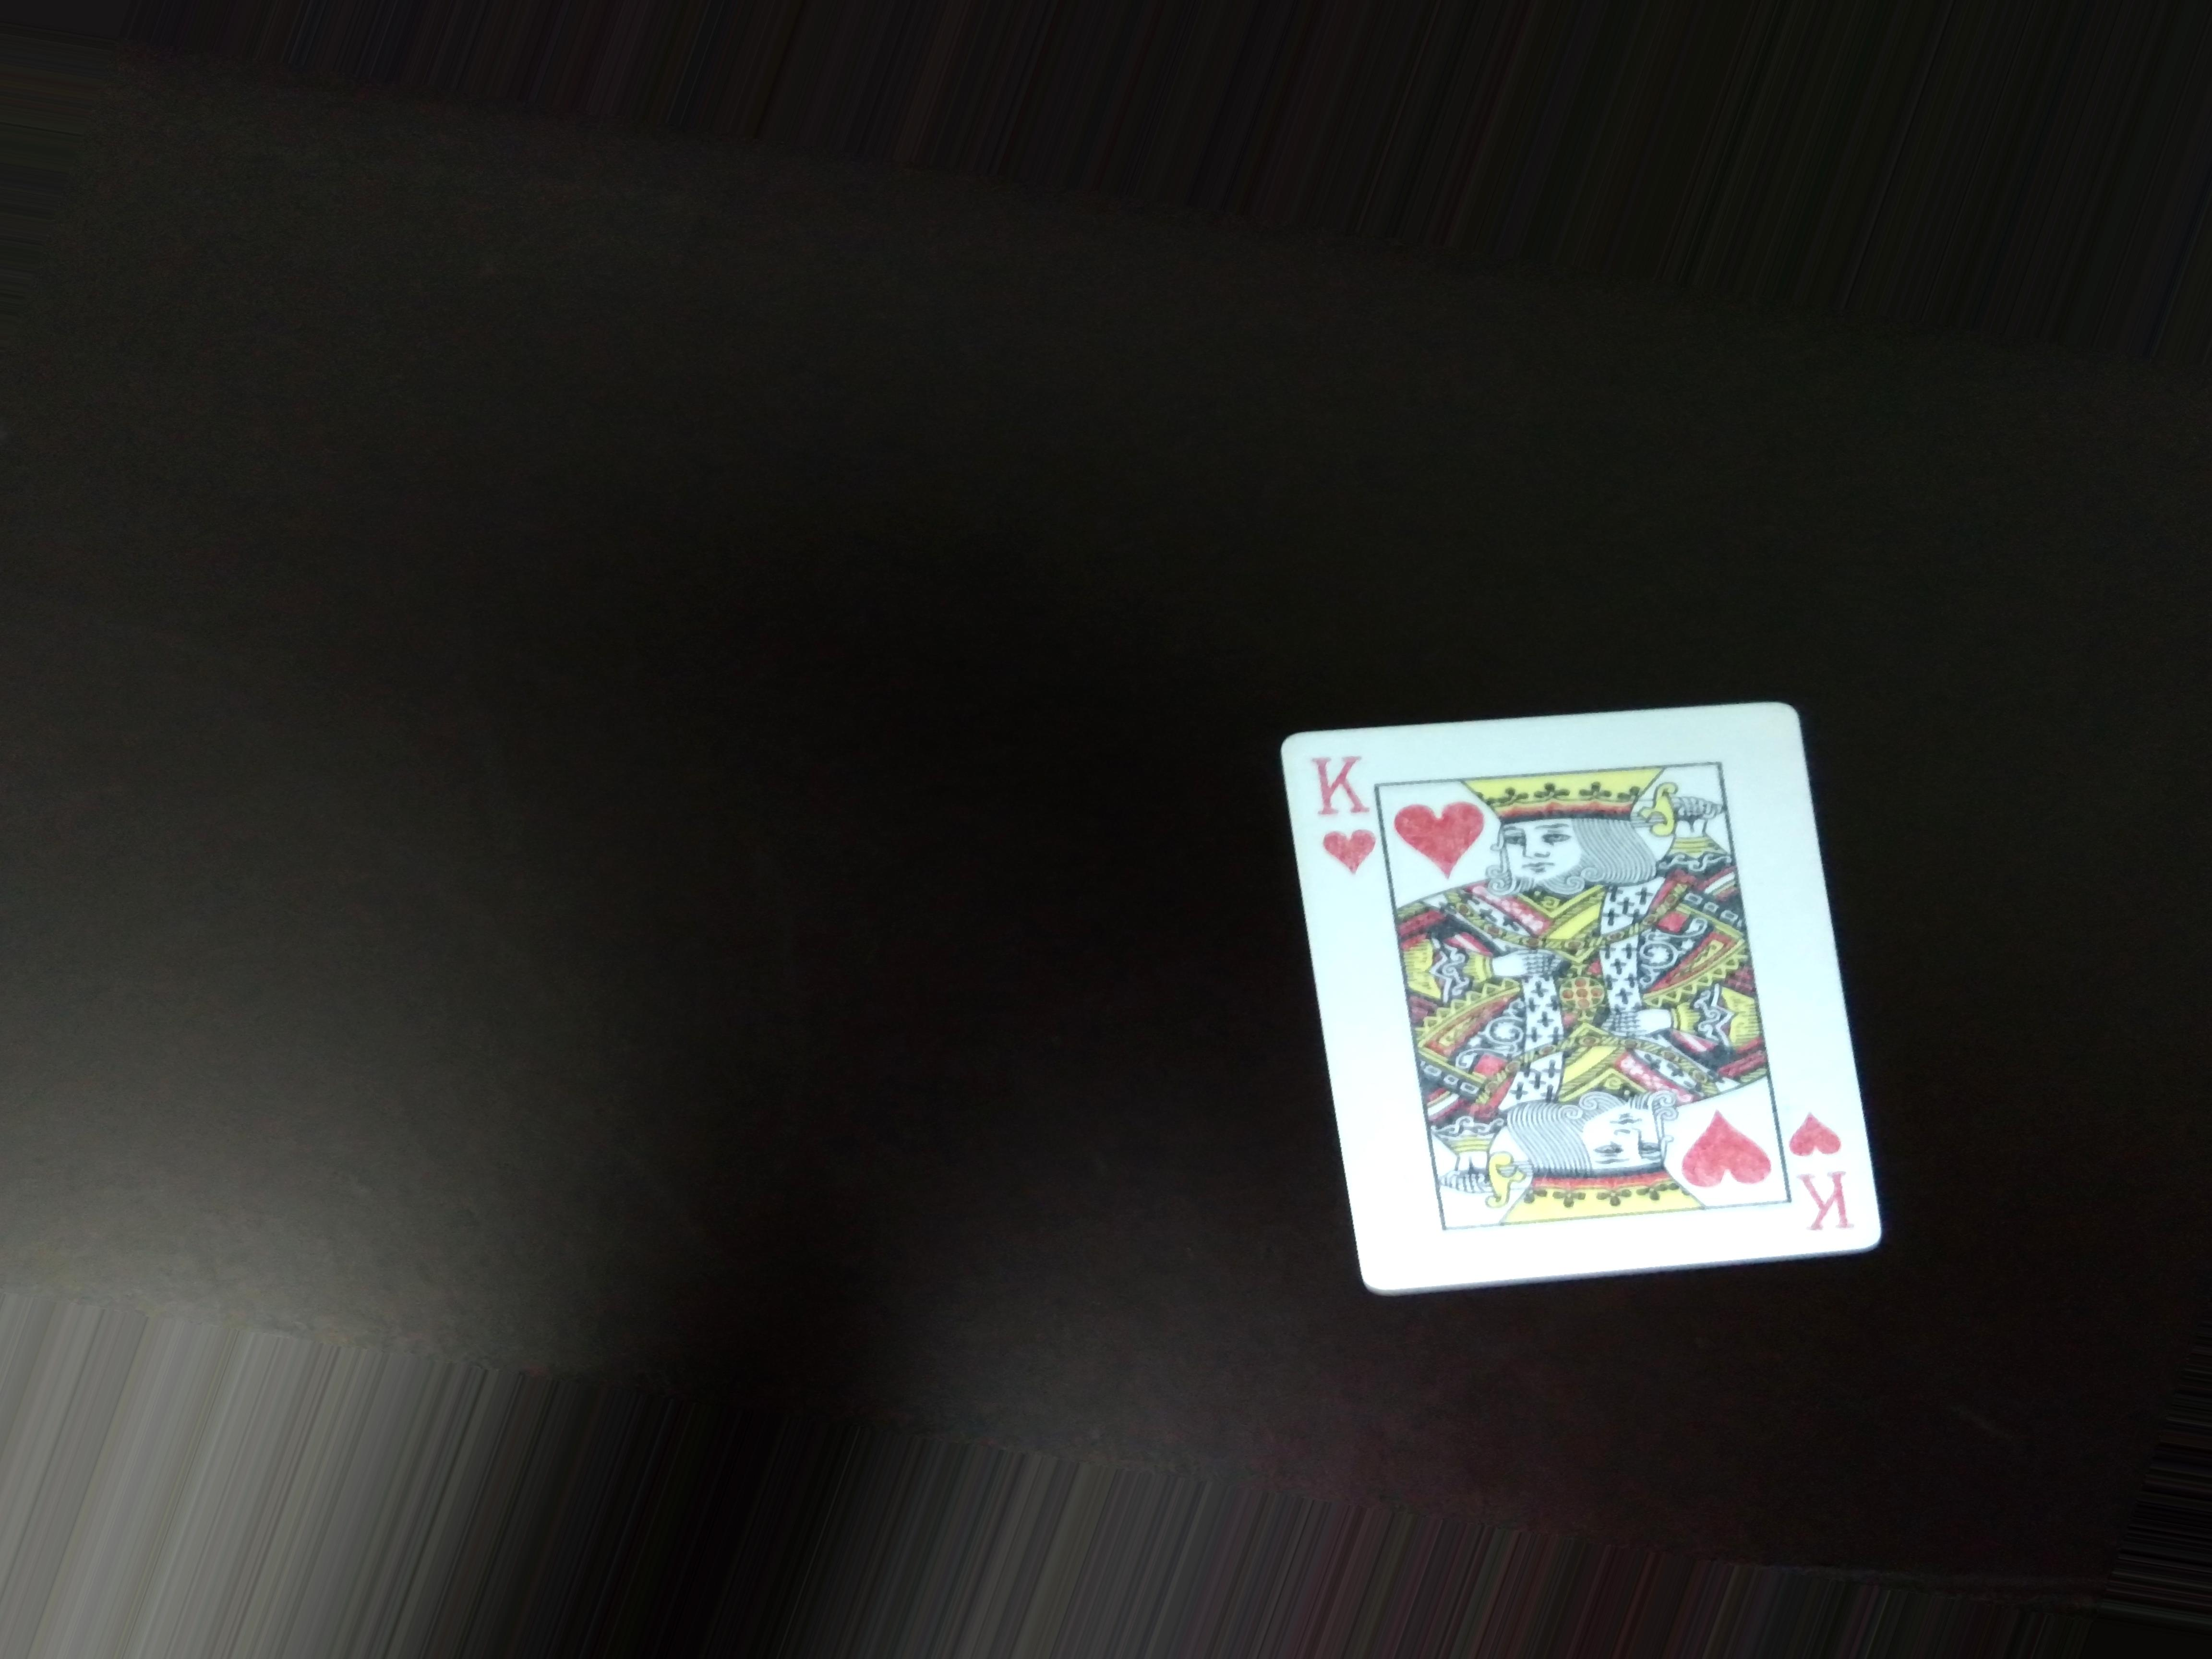KH: (1777, 1101, 1858, 1249)
